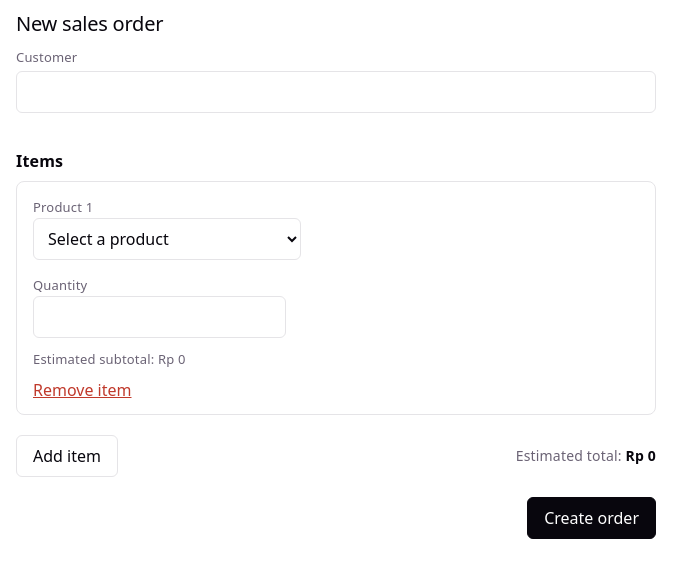
Test: OrderForm › shows the available quantity when the backend reports insufficient stock
Type "Rio Achyar" into the field labelled "Customer". click: (336, 92)
box: [16,71,656,113]
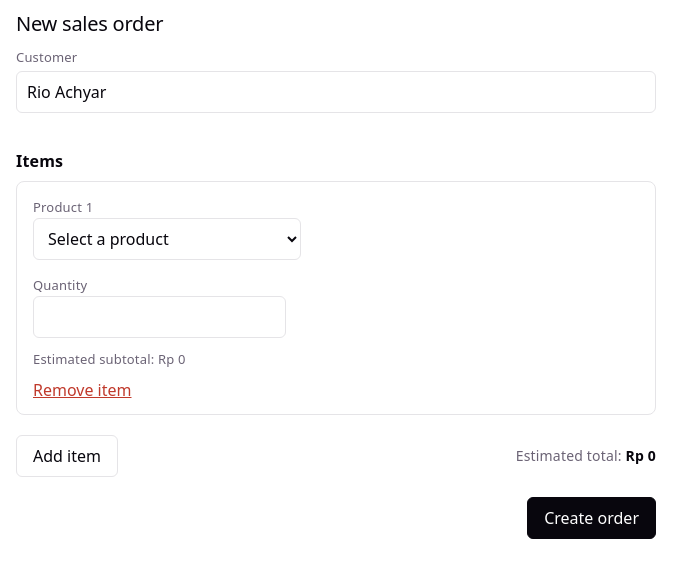
Select "SKU-001 - iCrystal (48 in stock)" in the dropdown labelled "Product 1". click: (167, 239)
box: [33,218,301,260]
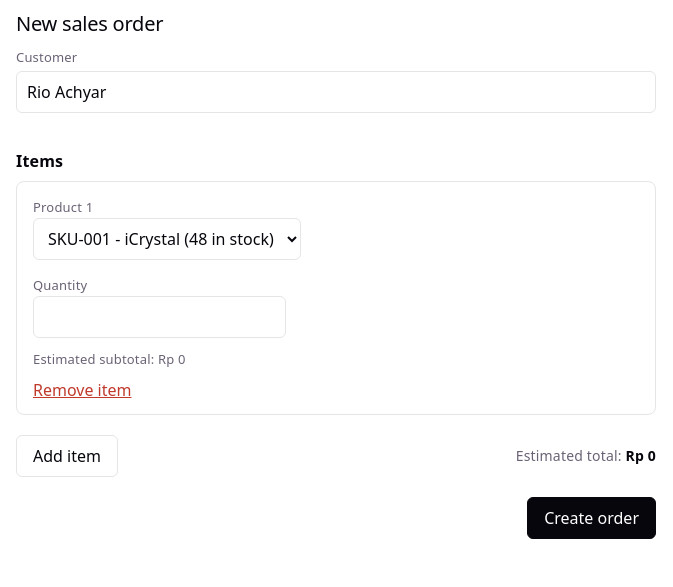
Type "99" into the field labelled "Quantity". click: (160, 317)
box: [33,296,286,338]
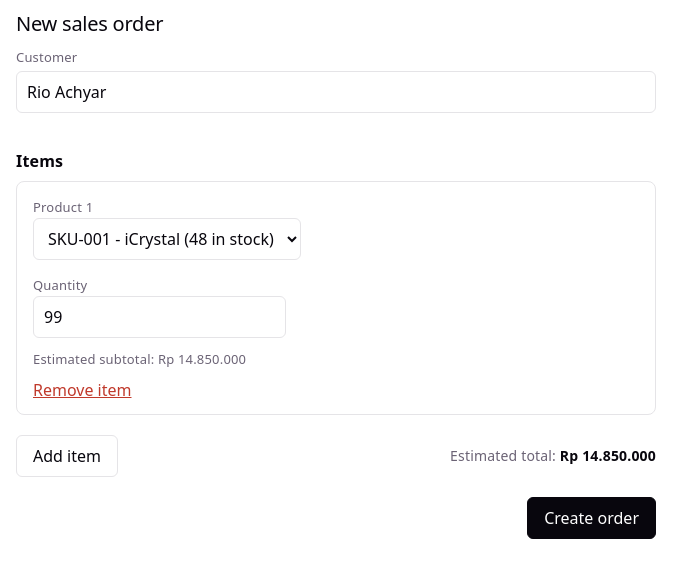
Click the button "Create order". click: (592, 518)
box: [527,497,656,539]
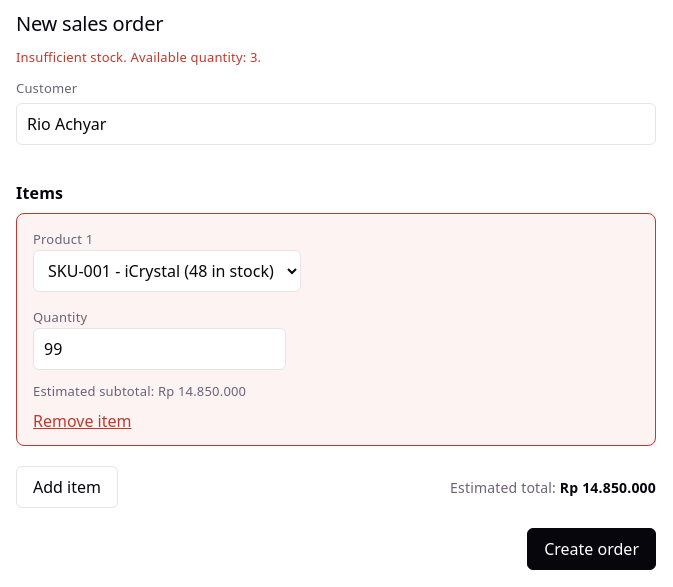
Expected: the text "Insufficient stock. Available quantity: 3." is shown, [16,48,261,66]
